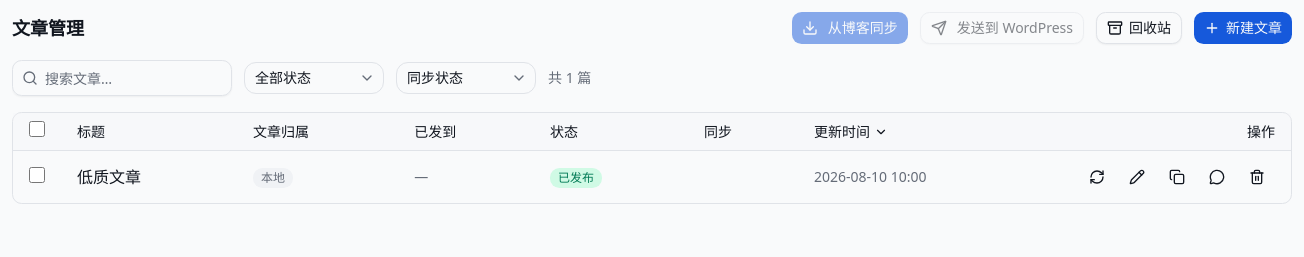
ArticlesClient › AI 刷新失败显示错误信息
Expected: the text "低质文章" is shown, top-left (61, 150), bottom-right (237, 203)
Click the button with test id "refresh-s1".
click(1097, 177)  # box top-left (1079, 159), bottom-right (1115, 195)
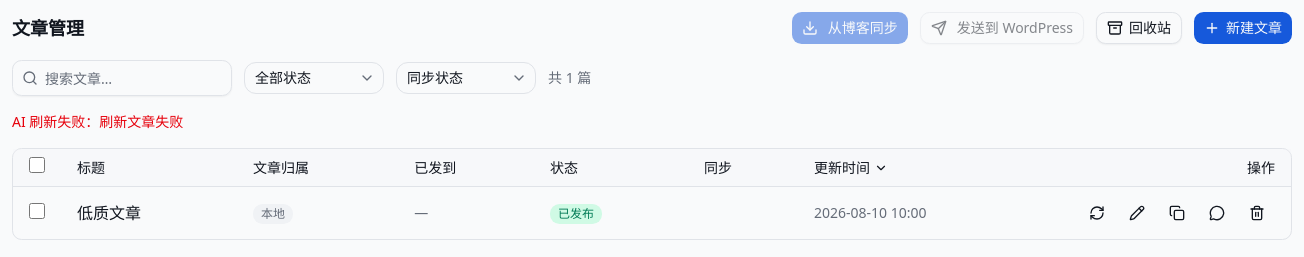
Expected: the message reads "AI 刷新失败：刷新文章失败", top-left (12, 112), bottom-right (183, 131)
